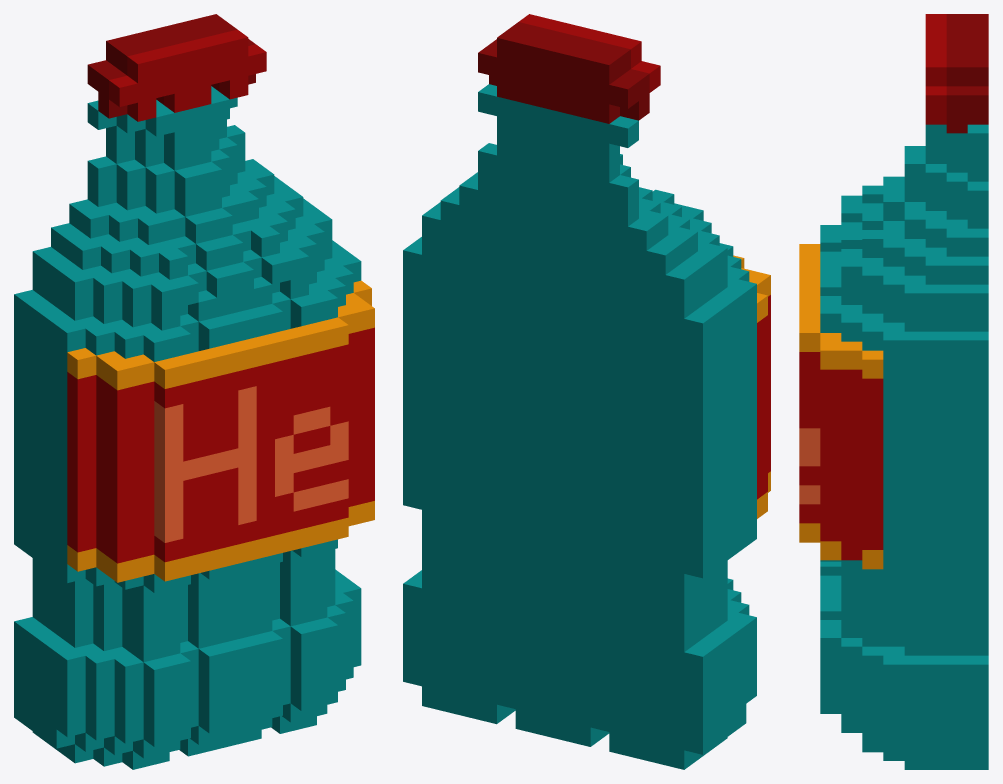
File: cola.obj
3 renders of one model, left to right at view 1: azimuth 30°, elevation 25°; view 2: azimuth 150°, elevation 25°; view 3: azimuth 270°, elevation 25°, orthographic. The views are drawn at different scales.
Size of the model in its own units: 1.6 by 3.5 by 0.9.
Materials: 1 (1 with a texture image).
